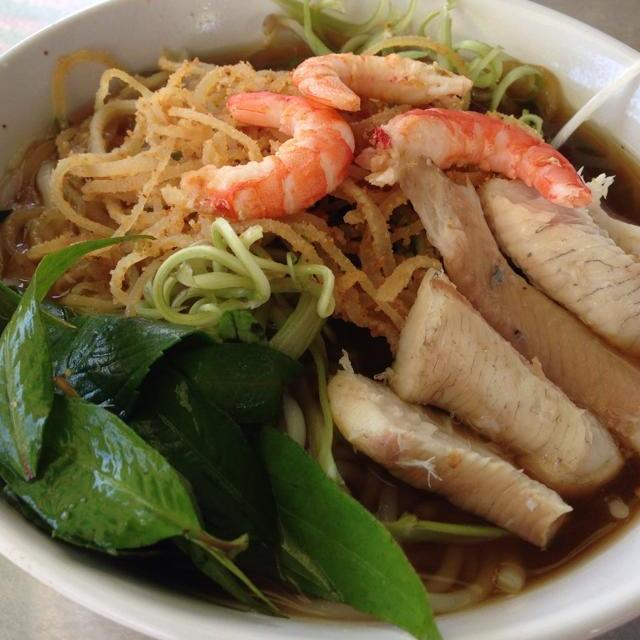bi: (0, 34, 309, 321), (246, 159, 450, 361)
ca: (385, 141, 640, 471), (378, 255, 636, 506), (318, 349, 579, 551), (465, 153, 640, 366), (571, 151, 640, 311)
rau ram: (113, 330, 466, 640), (0, 359, 295, 624), (0, 107, 162, 486)
tom: (350, 99, 603, 223), (169, 78, 363, 230), (284, 40, 484, 132)
